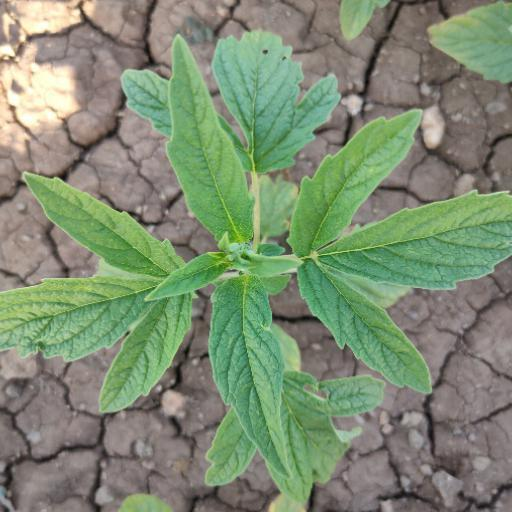crop: (26, 41, 510, 482)
